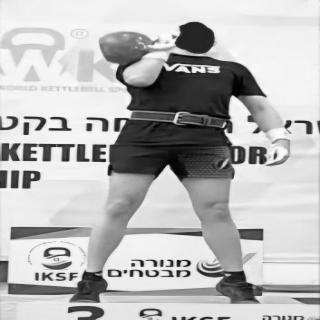kettlebell: (96, 29, 181, 66)
